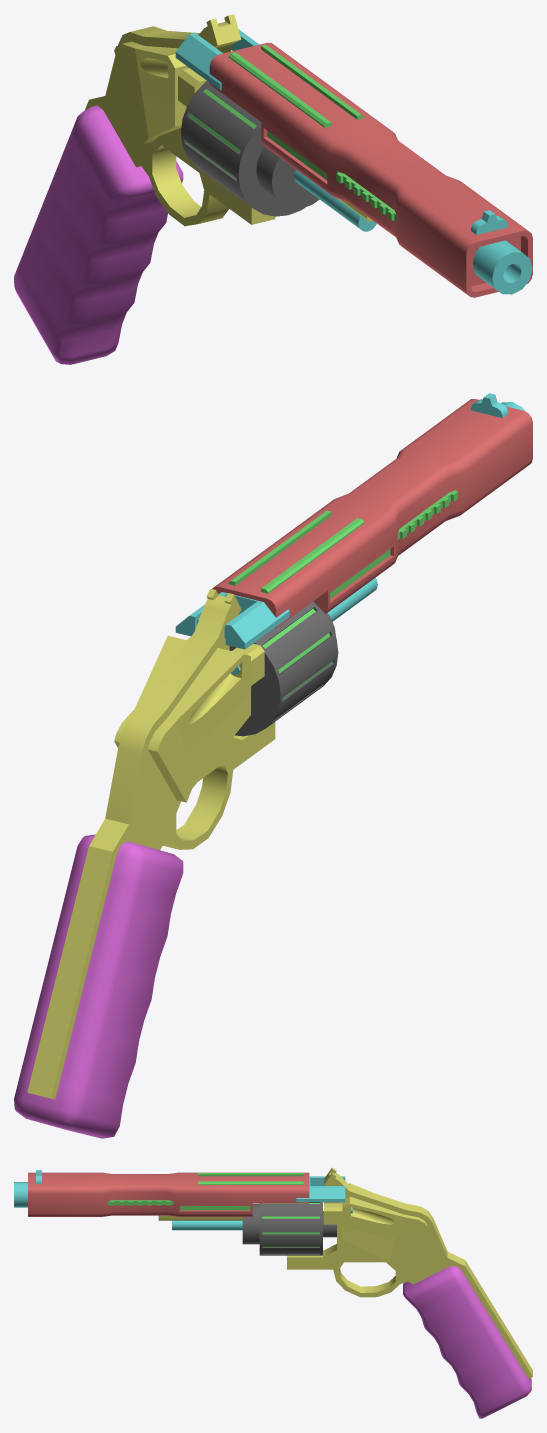
The model's file is Distance_Pistol.fbx.
3 renders of one model, top to bottom at view 1: azimuth 30°, elevation 25°; view 2: azimuth 150°, elevation 25°; view 3: azimuth 270°, elevation 25°, orthographic. The views are drawn at different scales.
Parts seen in each view (by area): view 1: Distance_Pistol; view 2: Distance_Pistol; view 3: Distance_Pistol.
Boxes of the visible parts, <box> form: Distance_Pistol: <box>14,14,532,364</box>; Distance_Pistol: <box>14,393,532,1138</box>; Distance_Pistol: <box>14,1167,532,1418</box>.
Bounding box in the file's own units: 0.0818 × 0.346 × 0.6712.
